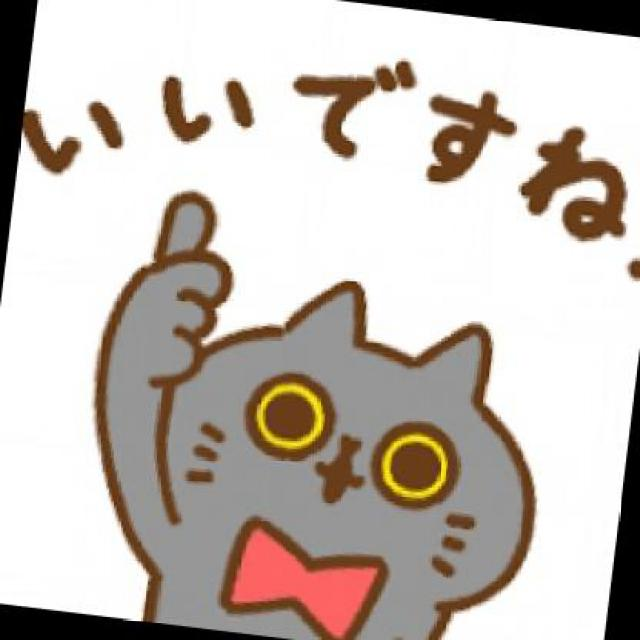animals: (62, 182, 576, 638)
